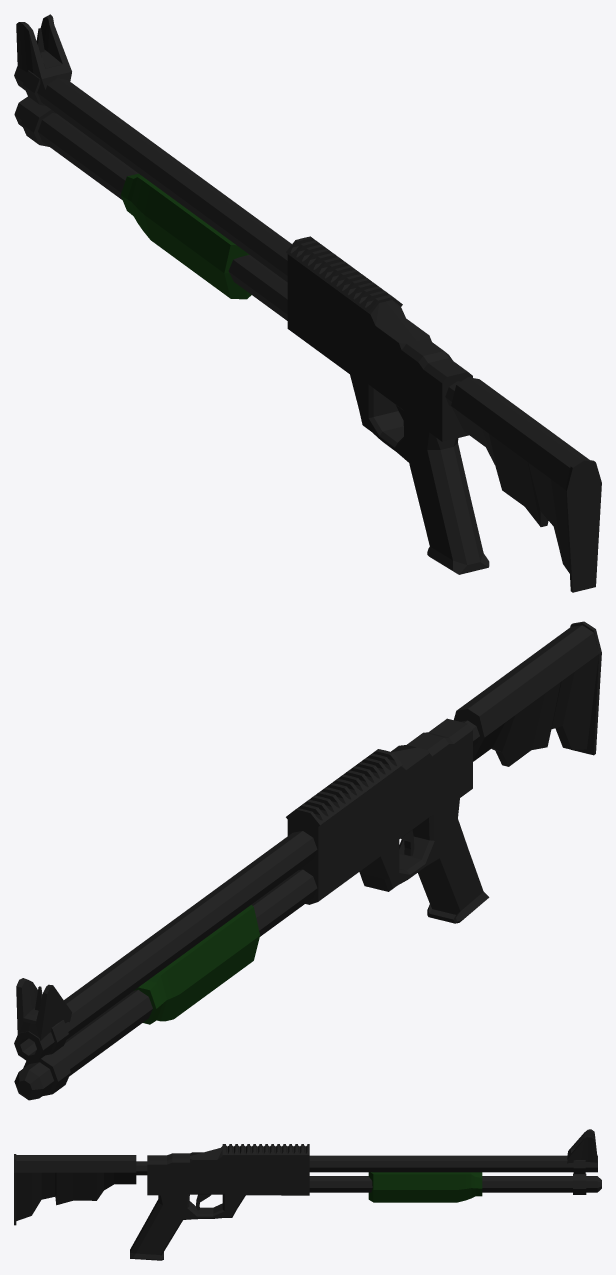
Rendered from shotgun.fbx.
3 renders of one model, top to bottom at view 1: azimuth 30°, elevation 25°; view 2: azimuth 150°, elevation 25°; view 3: azimuth 270°, elevation 25°, orthographic. The views are drawn at different scales.
Visible parts, largest first — view 1: Gun, Pump; view 2: Gun, Pump; view 3: Gun, Pump.
Part boxes in pixels (bbox=[...]): Gun: bbox=[14, 14, 601, 592]; Pump: bbox=[120, 173, 251, 299]; Gun: bbox=[14, 621, 601, 1100]; Pump: bbox=[134, 905, 260, 1024]; Gun: bbox=[14, 1129, 601, 1260]; Pump: bbox=[368, 1172, 482, 1202].
Bounding box in the file's own units: 4.93 × 29.95 × 129.
